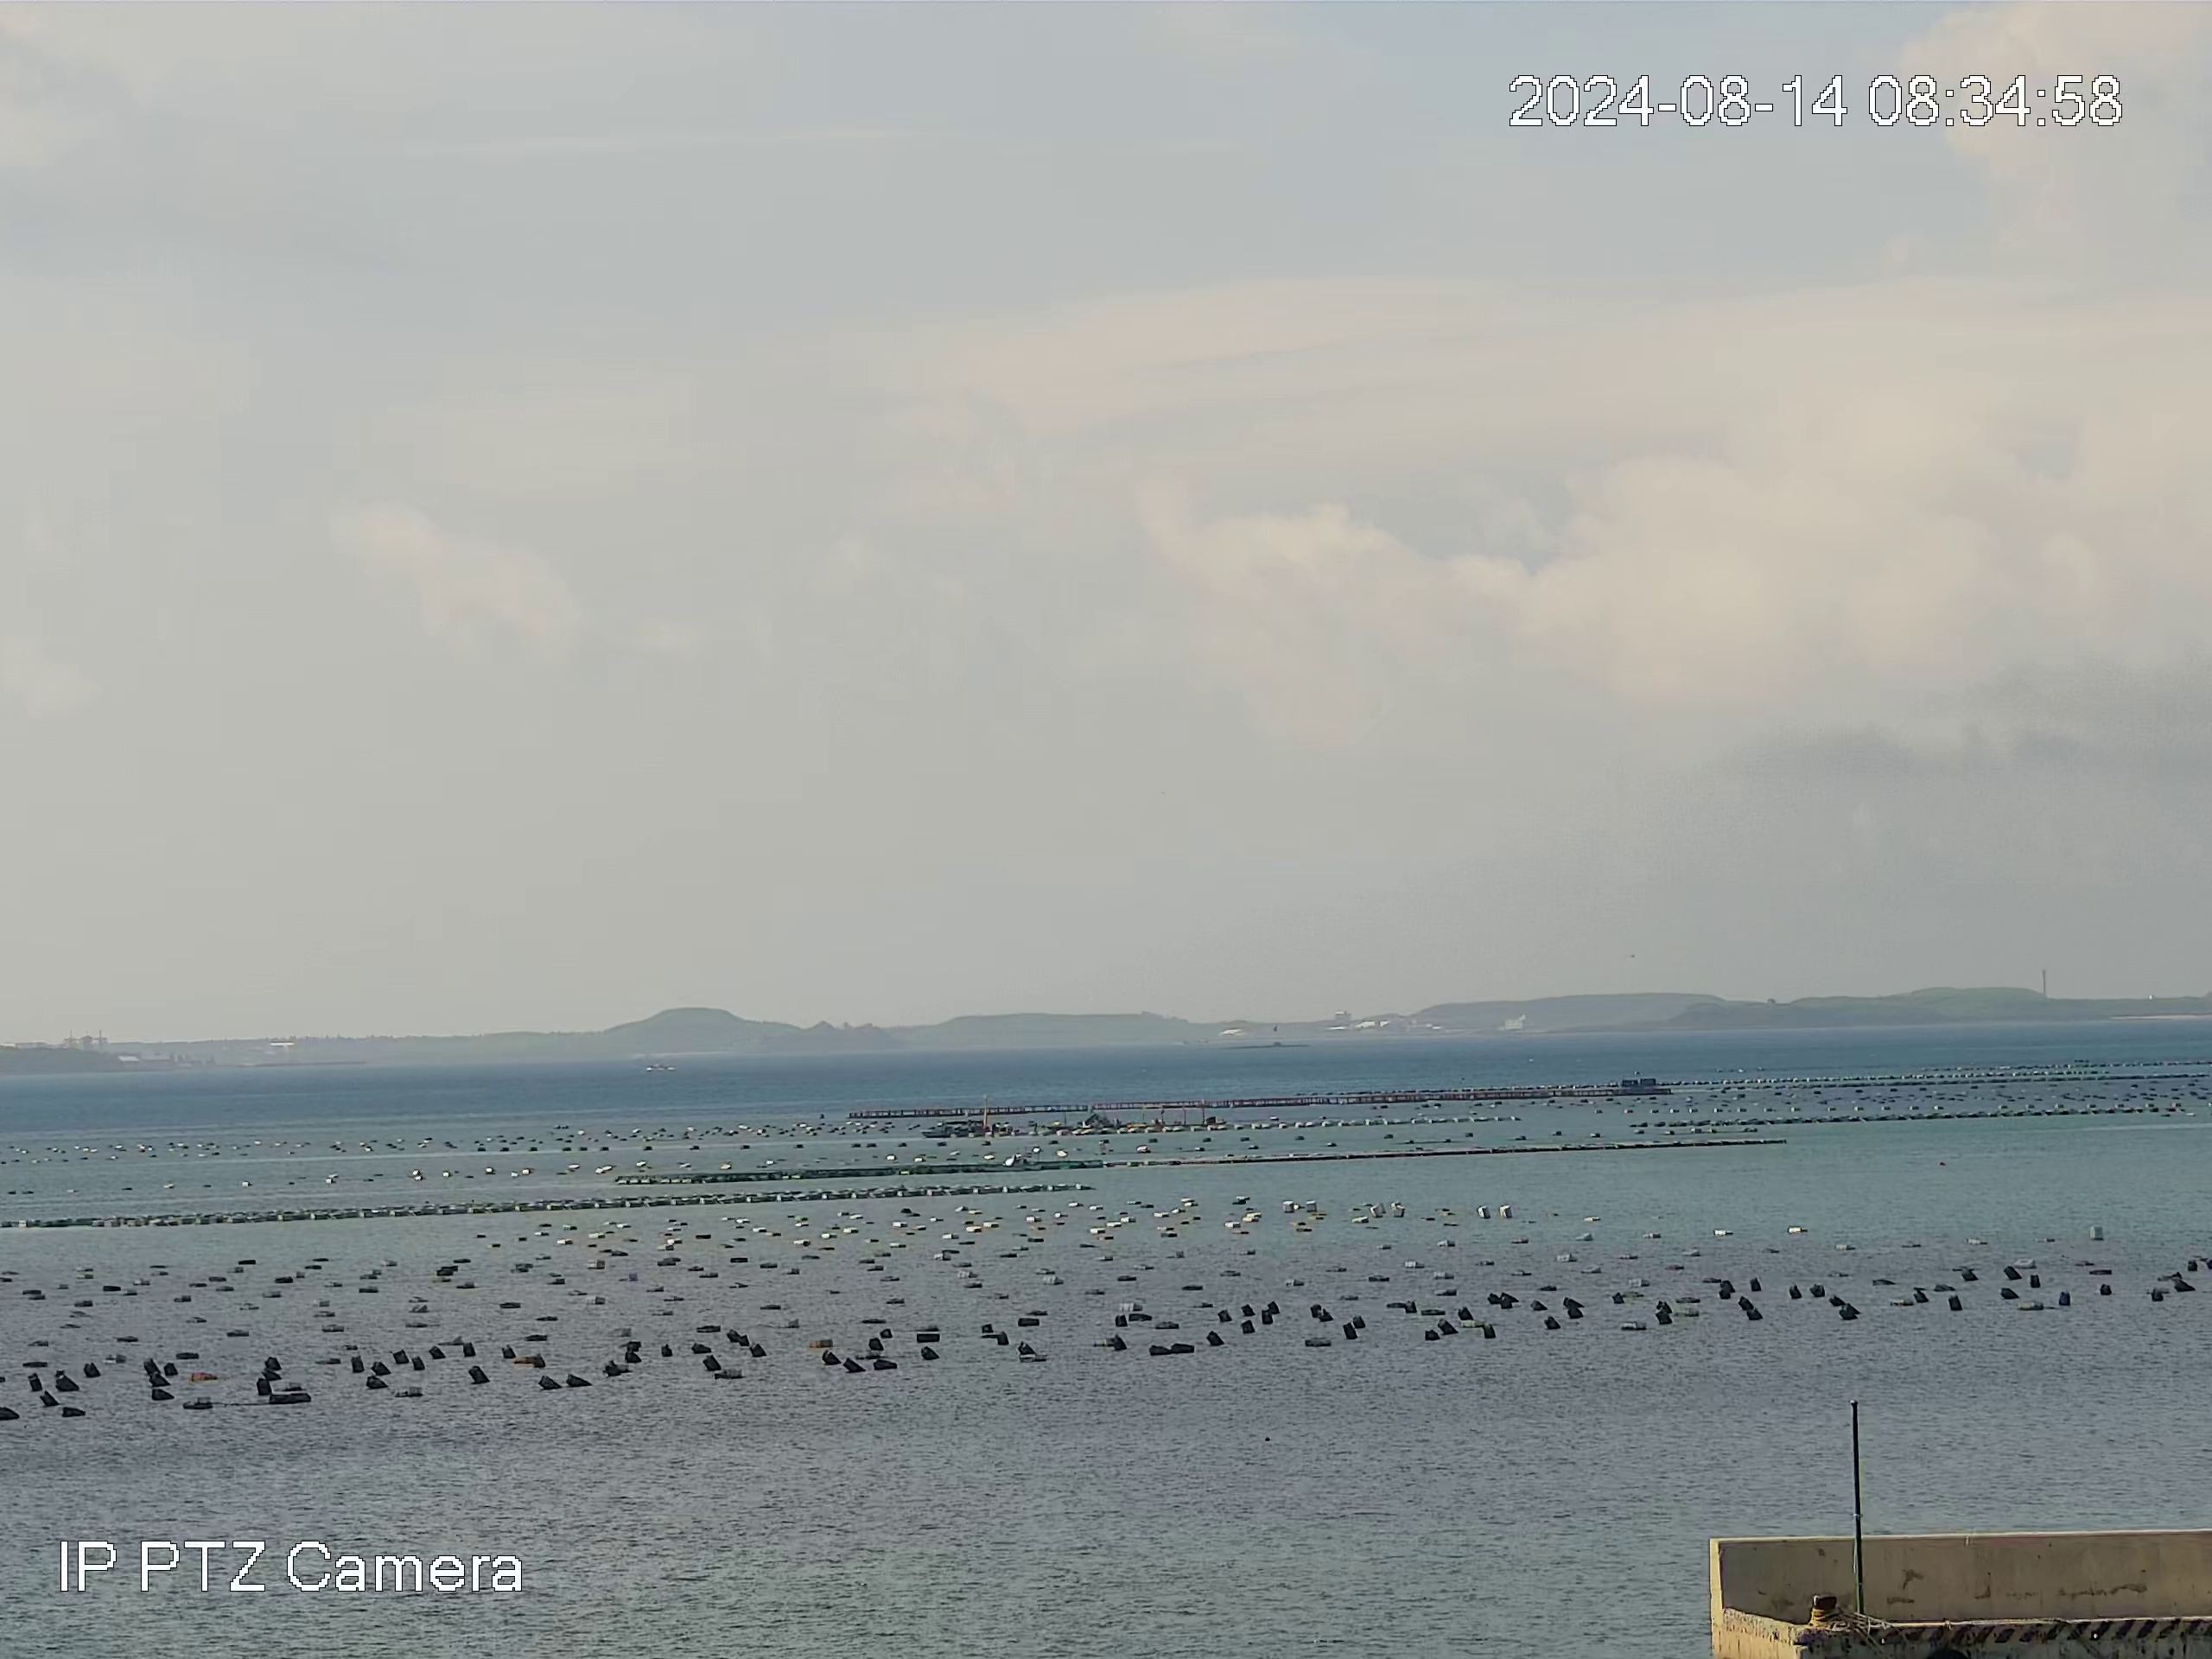boat: (923, 1119, 993, 1140)
